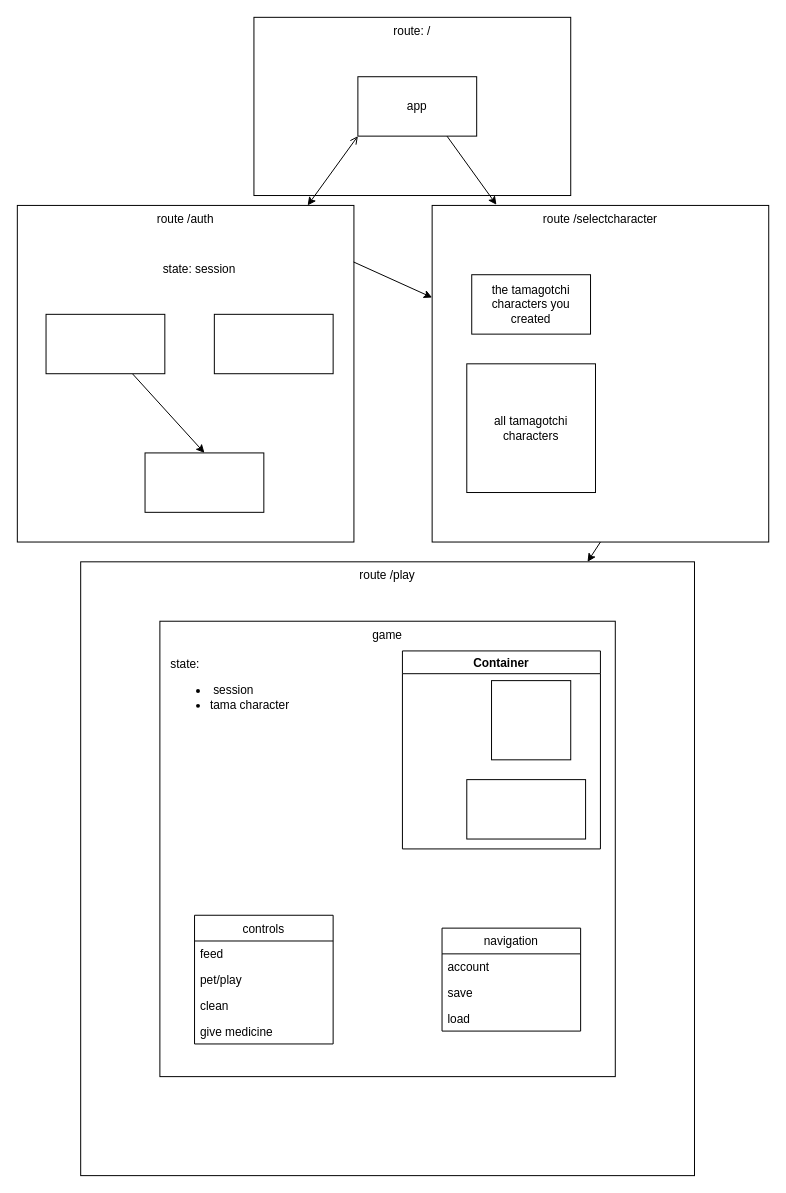
The diagram is 786 pixels wide and 1193 high, and some of its shapes have lost their labels. The centre of each missing label's shape, as x and y in pixels:
"canvas" goes at (531,720).
"character status chart" goes at (526,809).
"login" goes at (105,343).
"logout" goes at (204,482).
"sign up" goes at (273,343).
